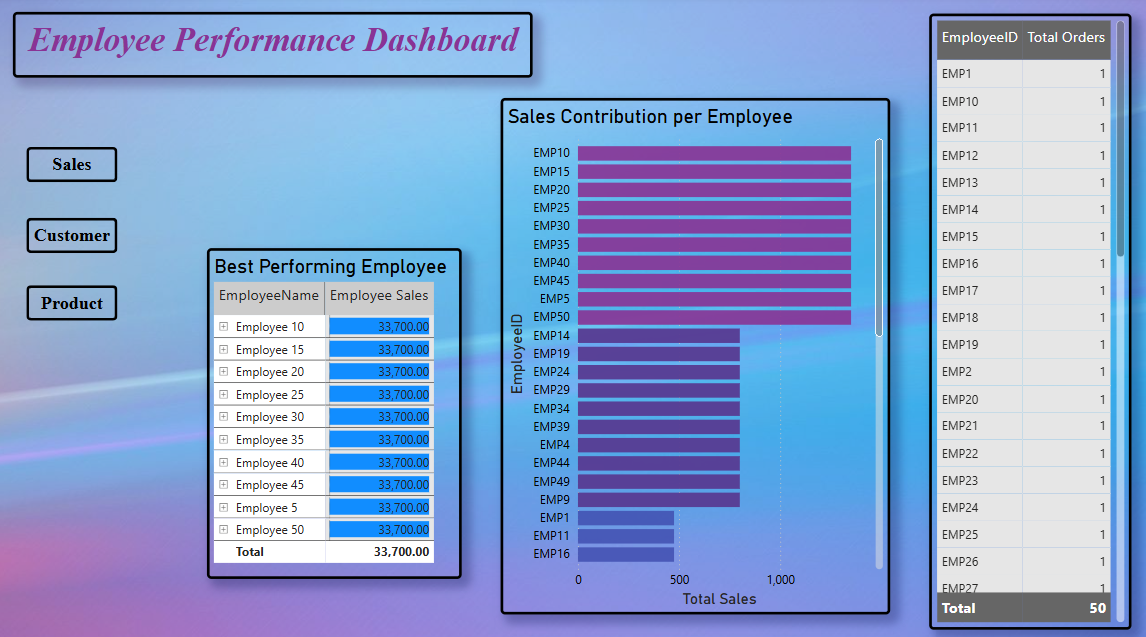

This screenshot's page, from the dashboard's own definition file:
{"tool":"powerbi","page":{"name":"Employee","canvas":[1280,720],"ordinal":3},"visuals":[{"type":"textbox","box":[18.7,18.7,575.3,72.9],"z":0},{"type":"pivotTable","title":"Best Performing Employee","fields":{"Rows":["Employees.EmployeeName","Employees.EmployeeID","Employees.Region","Employees.Designation","Employees.JoiningDate","Employees.Salary"],"Values":["Employees.Employee Sales"]},"box":[233.5,280.2,282.1,366.1],"z":1000},{"type":"tableEx","fields":{"Values":["Orders.EmployeeID","Orders.Total Orders"]},"box":[1033,20.5,224.2,681.8],"z":2000},{"type":"clusteredBarChart","title":"Sales Contribution per Employee","fields":{"Y":["Orders.Total Sales"],"Category":["Orders.EmployeeID"]},"box":[558.5,113.9,431.5,571.6],"z":3000},{"type":"actionButton","box":[33.6,168.1,100.9,39.2],"z":4000},{"type":"actionButton","box":[33.6,246.6,100.9,39.2],"z":4001},{"type":"actionButton","box":[33.6,321.3,100.9,39.2],"z":4002}]}

Visuals, with their boxes in screenshot pixels (x1, y1, x2, y2), scaled from the page's 1280x720 canvas onto the 1146x637 screenshot:
textbox: pyautogui.locateOnScreen(17, 17, 532, 81)
"Best Performing Employee" pivotTable: pyautogui.locateOnScreen(209, 248, 462, 572)
tableEx - Orders.EmployeeID x Orders.Total Orders: pyautogui.locateOnScreen(925, 18, 1126, 621)
"Sales Contribution per Employee" clusteredBarChart: pyautogui.locateOnScreen(500, 101, 886, 606)
actionButton: pyautogui.locateOnScreen(30, 149, 120, 183)
actionButton: pyautogui.locateOnScreen(30, 218, 120, 253)
actionButton: pyautogui.locateOnScreen(30, 284, 120, 319)
